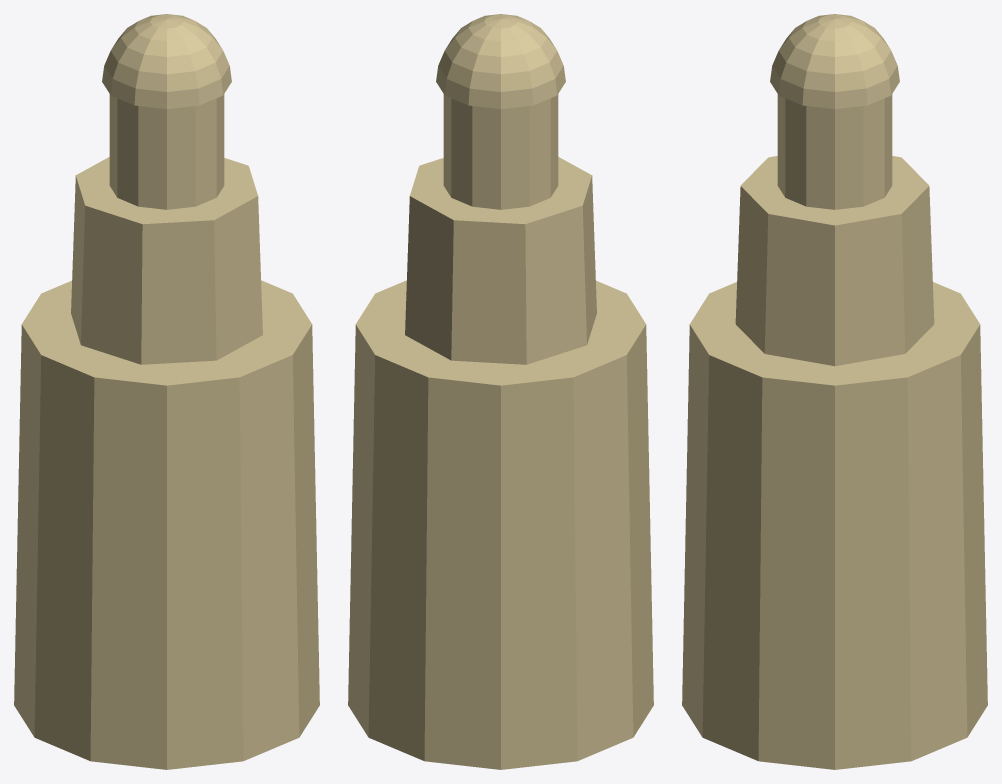
Rendered from torredeloro.glb.
3 views of the same model, side by side, from view 1: azimuth 30°, elevation 25°; view 2: azimuth 150°, elevation 25°; view 3: azimuth 270°, elevation 25° (orthographic).
Size of the model in its own units: 16 by 39.6 by 16.
